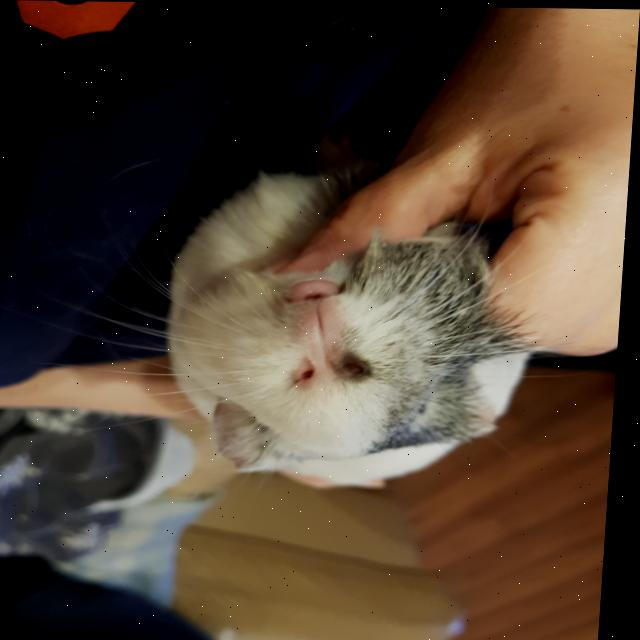guinea pig: (158, 121, 553, 491)
